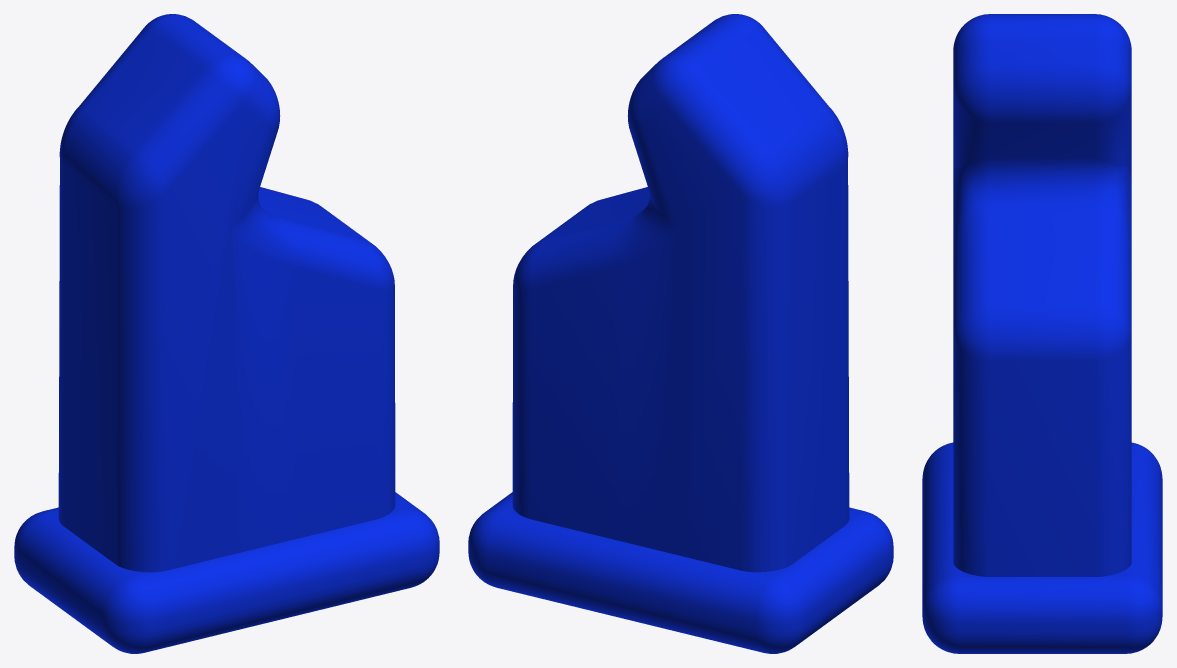
Rendered from house.fbx.
3 views of the same model, side by side, from view 1: azimuth 30°, elevation 25°; view 2: azimuth 150°, elevation 25°; view 3: azimuth 270°, elevation 25° (orthographic).
Parts seen in each view (by area): view 1: gedung.004; view 2: gedung.004; view 3: gedung.004.
Boxes of the visible parts, left/top/right/bottom form: gedung.004: left=14, top=14, right=439, bottom=653; gedung.004: left=468, top=14, right=893, bottom=653; gedung.004: left=922, top=14, right=1162, bottom=653.
Bounding box in the file's own units: 1452 × 2345 × 914.
